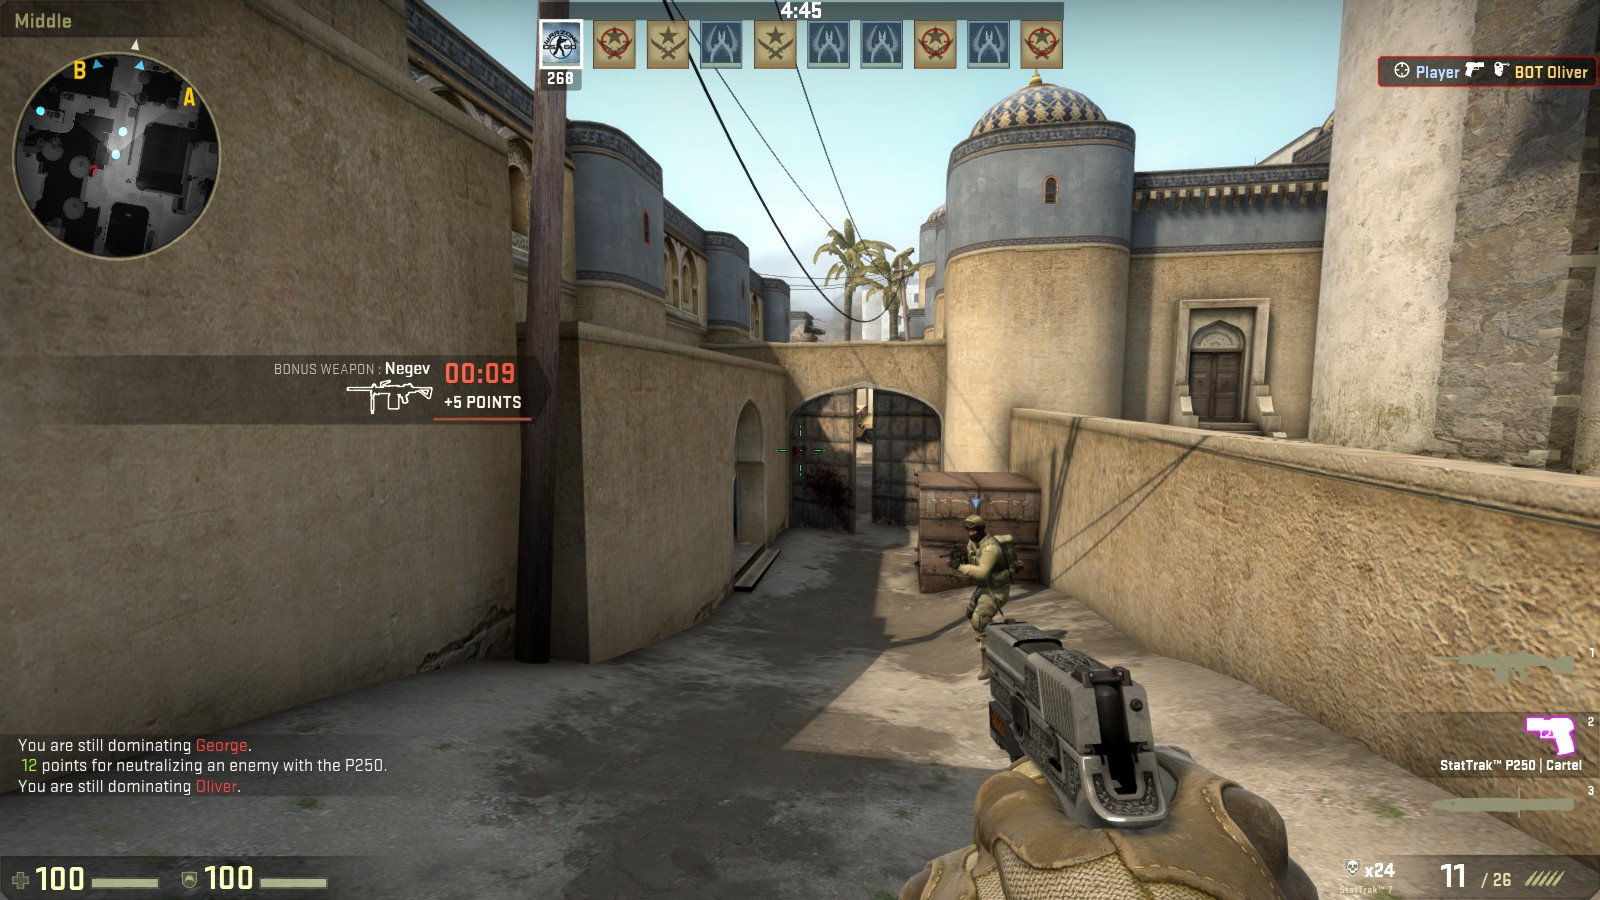c: (954, 514, 1016, 642)
ch: (962, 513, 987, 543)
